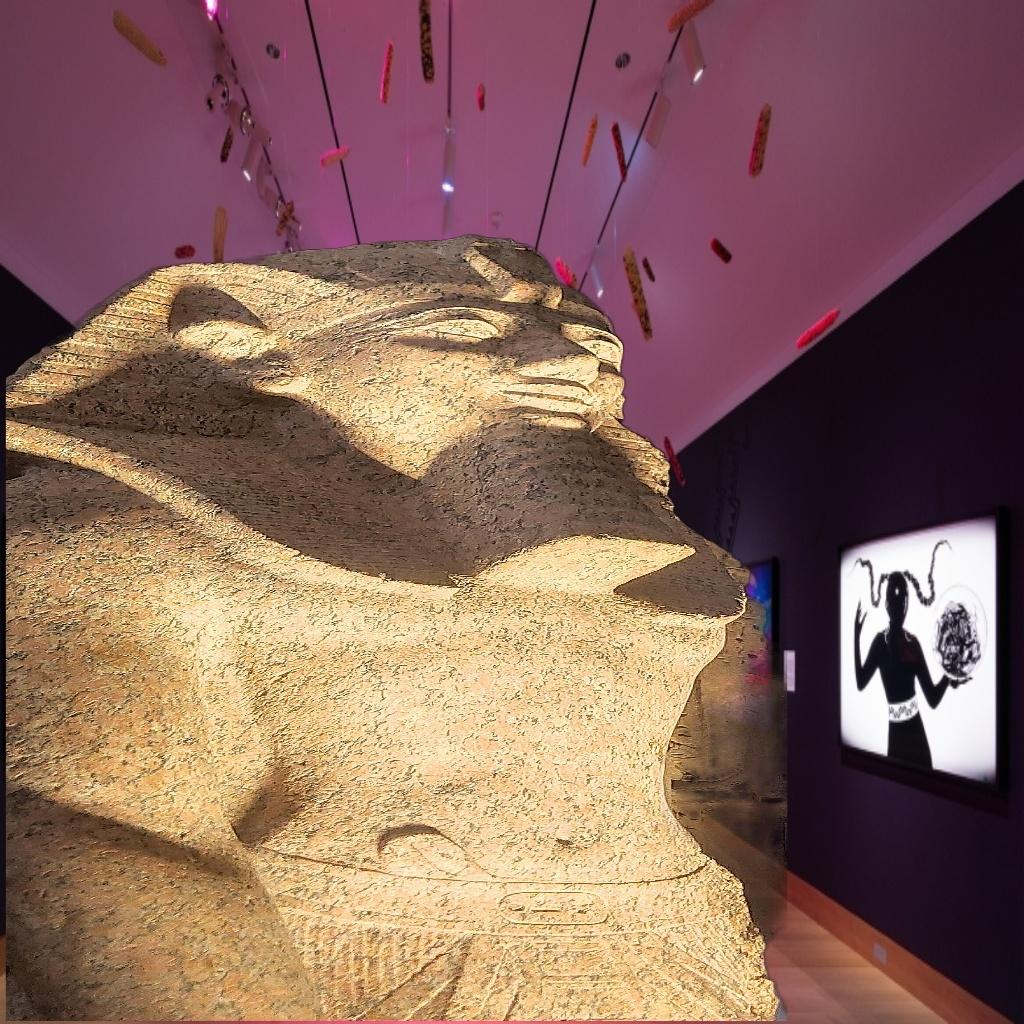Standing Statue of Thutmose III: (6, 231, 788, 1021)
